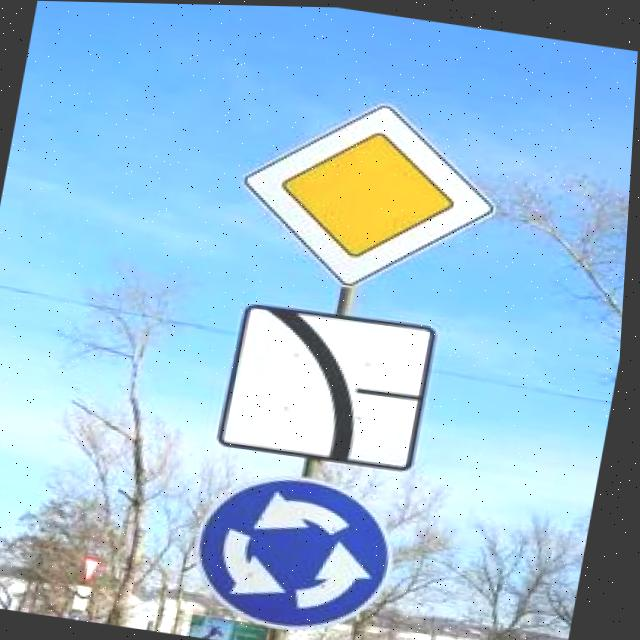signs: (226, 82, 509, 305)
